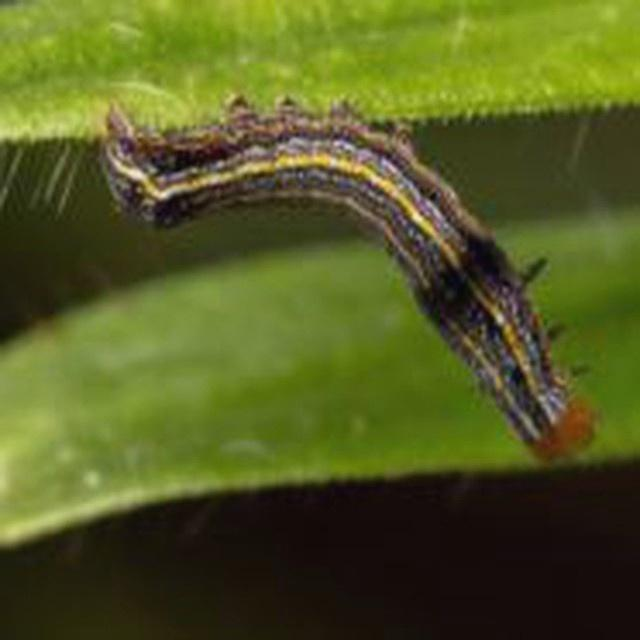gusano_cogollero: (94, 91, 606, 468)
